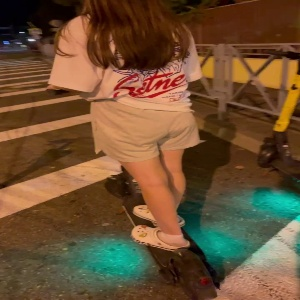human on a scooter: (42, 1, 224, 299)
